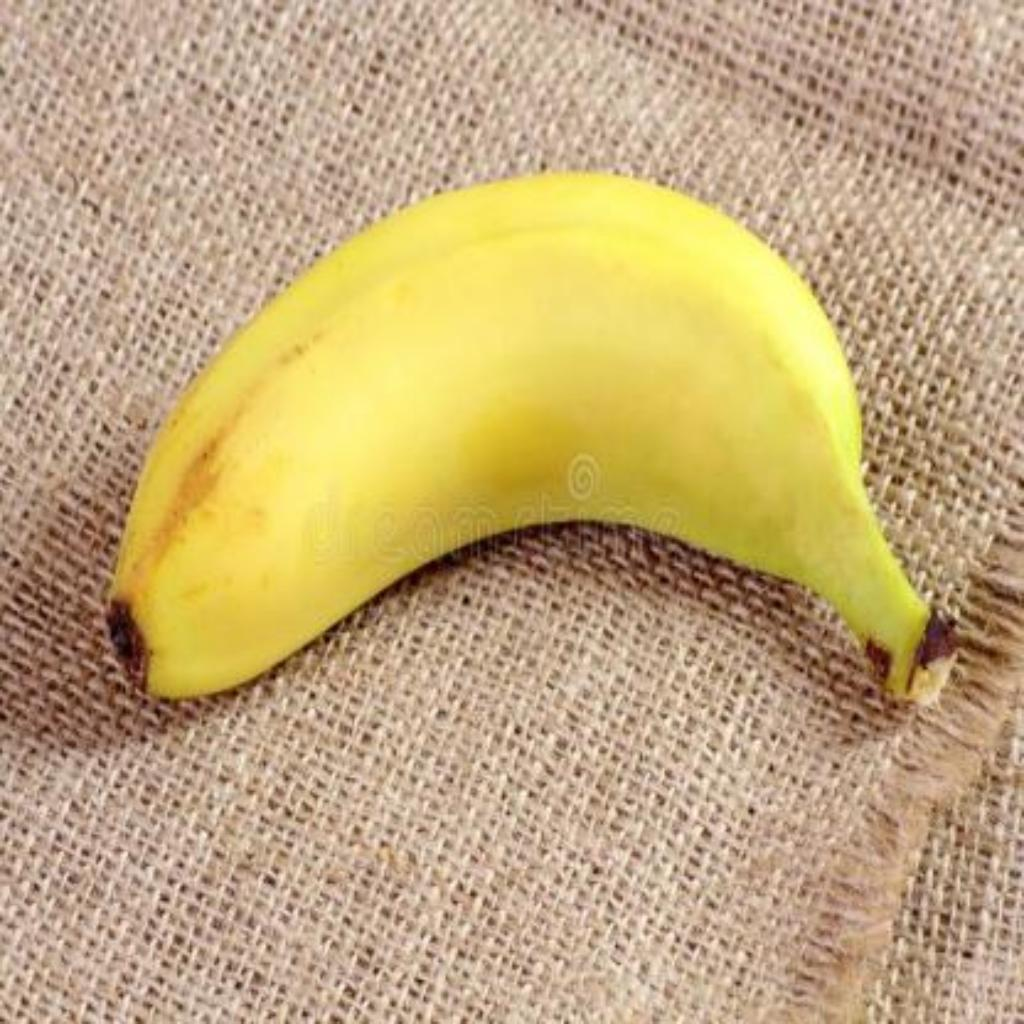banana: (103, 172, 933, 704)
